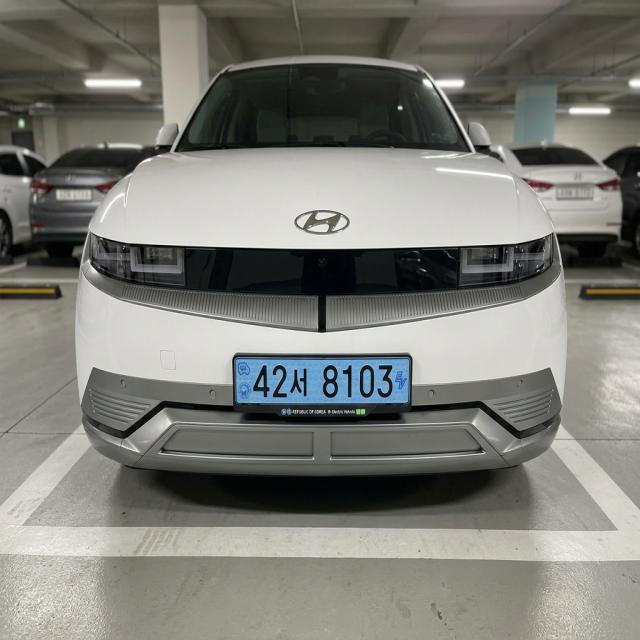car: (224, 346, 421, 430)
carev: (236, 359, 253, 404), (394, 363, 409, 397)
